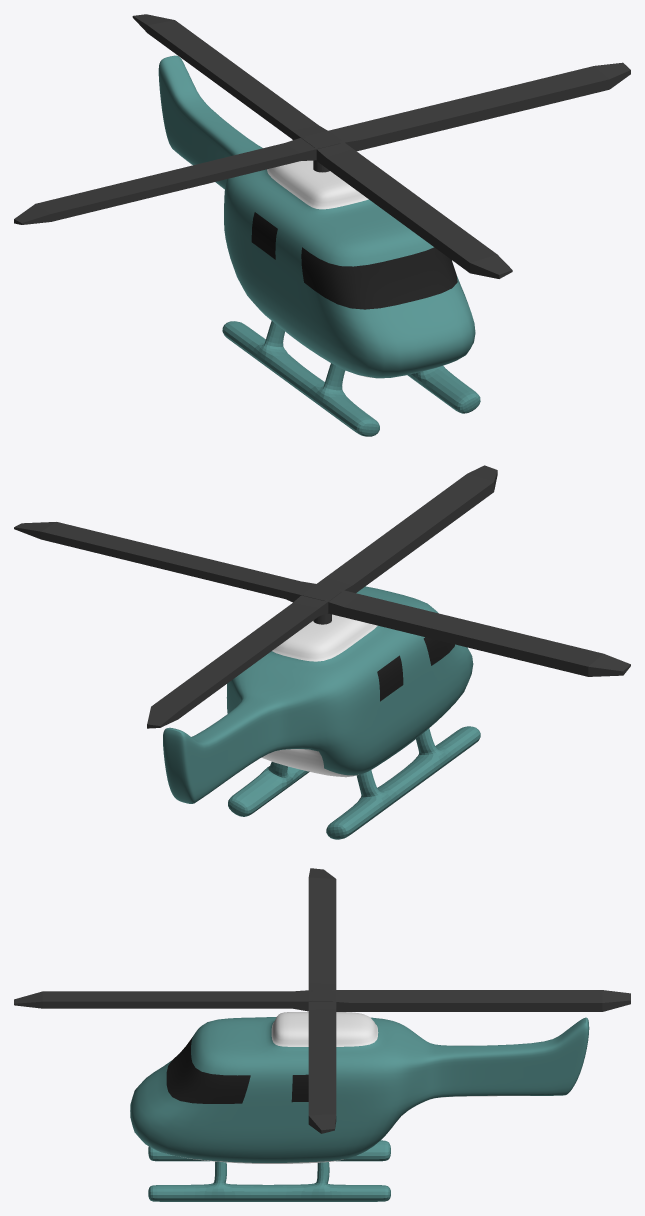
Rendered from heli.glb.
3 renders of one model, top to bottom at view 1: azimuth 30°, elevation 25°; view 2: azimuth 150°, elevation 25°; view 3: azimuth 270°, elevation 25°, orthographic. The views are drawn at different scales.
Visible parts, largest first — view 1: Heli, Rotor; view 2: Heli, Rotor; view 3: Heli, Rotor.
Part boxes in pixels (box(x1,y1,x2,y2)): Heli: box(158, 55, 480, 436); Rotor: box(14, 14, 630, 278); Heli: box(163, 586, 480, 839); Rotor: box(14, 465, 630, 728); Heli: box(130, 1012, 589, 1201); Rotor: box(14, 868, 630, 1133).
Bounding box in the file's own units: 2.69 × 0.8908 × 2.69.
